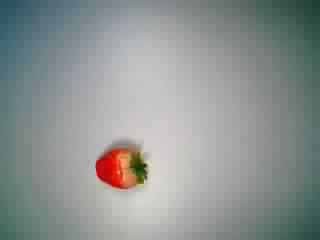strawberry: (88, 133, 150, 197)
